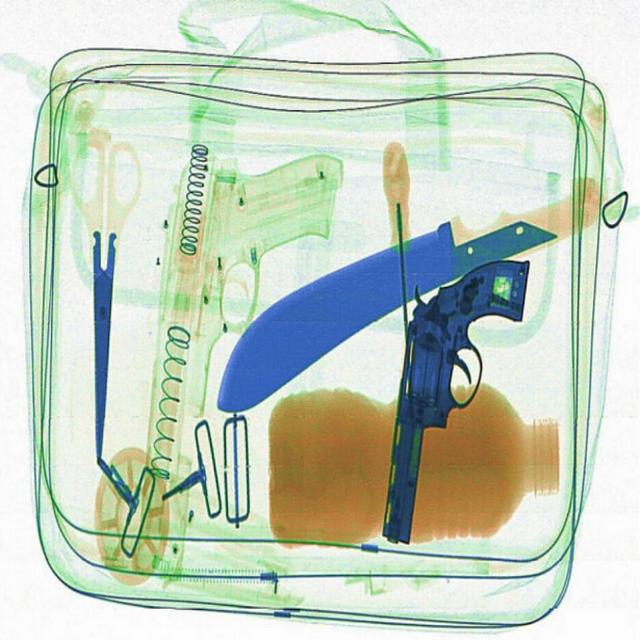knife: (216, 217, 557, 416), (90, 229, 117, 462)
pistol: (144, 152, 343, 496), (381, 257, 532, 549)
